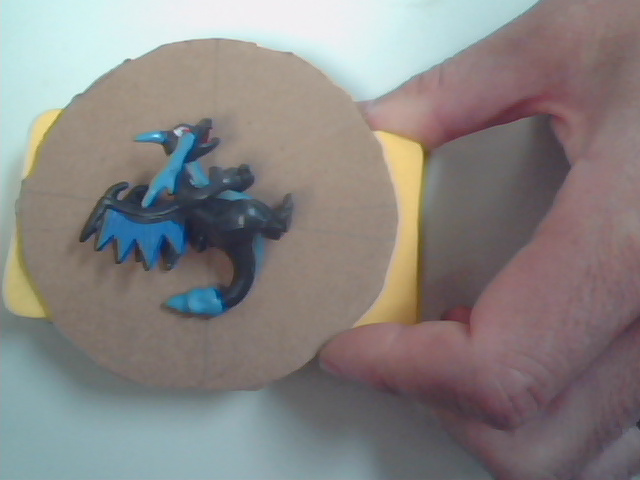charizard: (78, 114, 316, 342)
